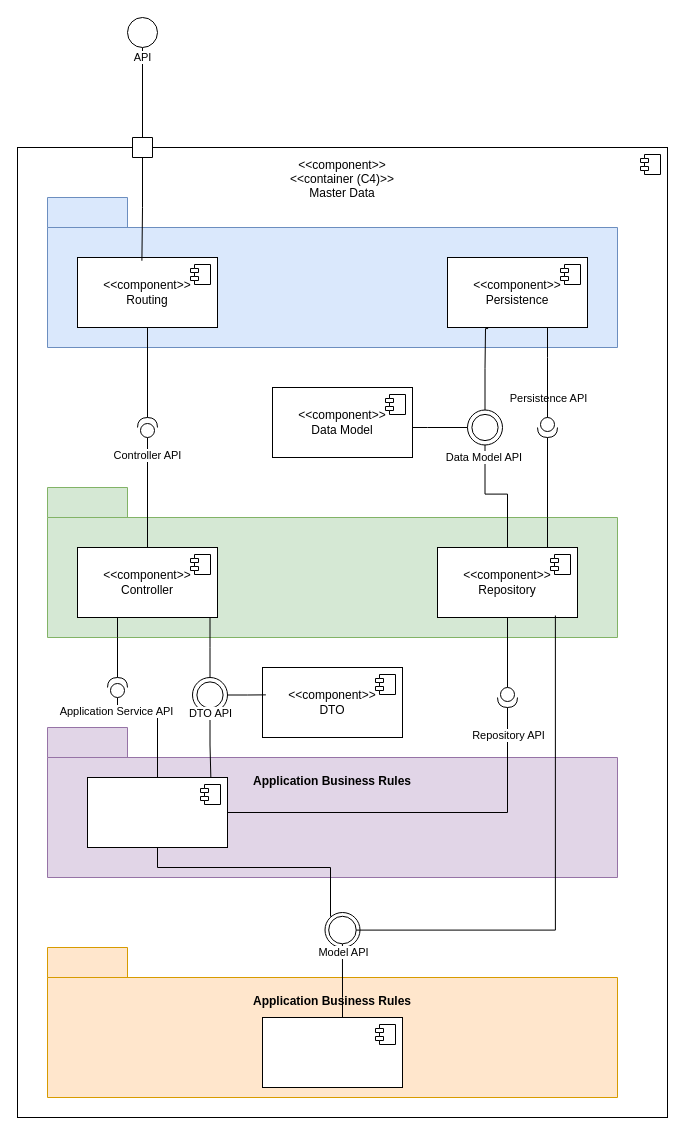
The diagram is 685 pixels wide and 1135 high, and some of its shapes have lost their labels. The box of each missing label's shape, as (x1, y1, x2, y2) in pixels:
<<component>> Application Service: (86, 776, 228, 848)
<<component>> Domain Model (DDD): (262, 1016, 402, 1088)
Frameworks and Drives Layer: (46, 196, 618, 348)
Interface Adapters Layer: (46, 486, 618, 638)
